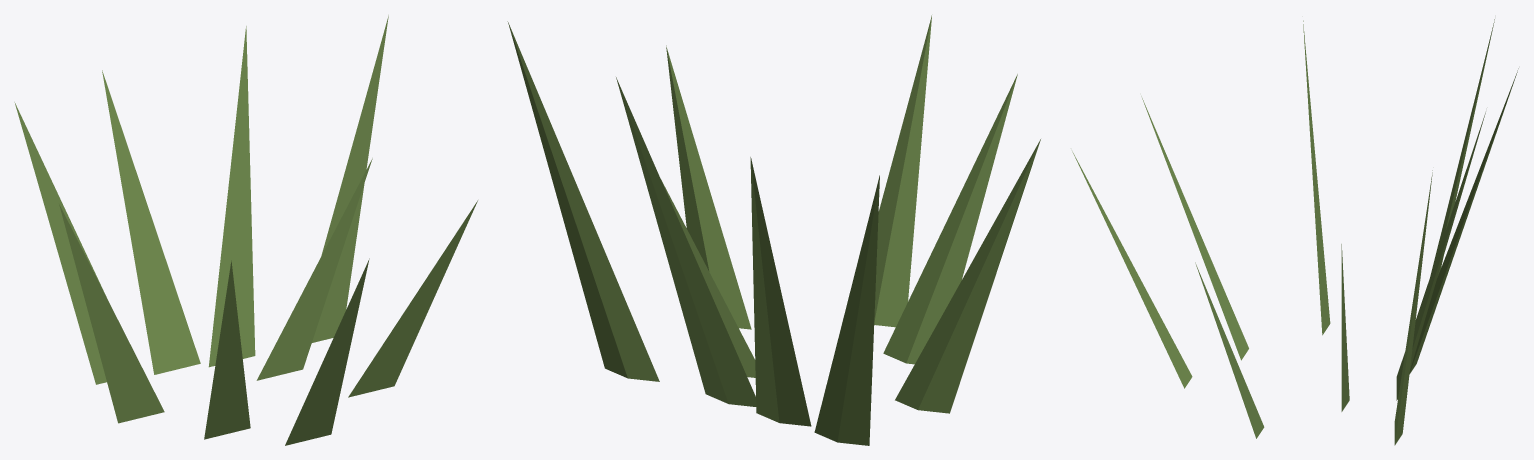
Rendered from GrassTuft_A.fbx.
3 views of the same model, side by side, from view 1: azimuth 30°, elevation 25°; view 2: azimuth 150°, elevation 25°; view 3: azimuth 270°, elevation 25° (orthographic). The views are drawn at different scales.
Parts seen in each view (by area): view 1: GrassTuft_A; view 2: GrassTuft_A; view 3: GrassTuft_A.
Boxes of the visible parts, bbox=[...] form: GrassTuft_A: bbox=[14, 15, 477, 445]; GrassTuft_A: bbox=[507, 15, 1040, 445]; GrassTuft_A: bbox=[1072, 19, 1518, 445].
Size of the model in its own units: 0.4898 by 0.35 by 0.4572.
1 material, 1 textured.
